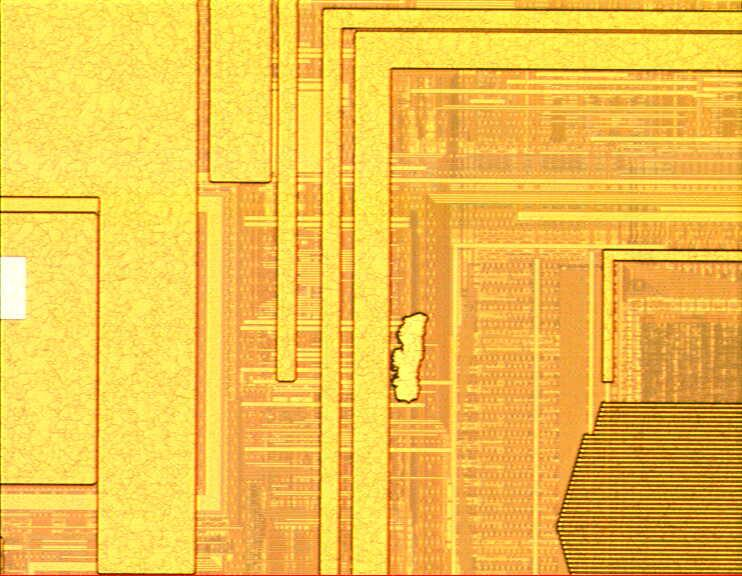BLOCK ETCH: (381, 308, 438, 412)
